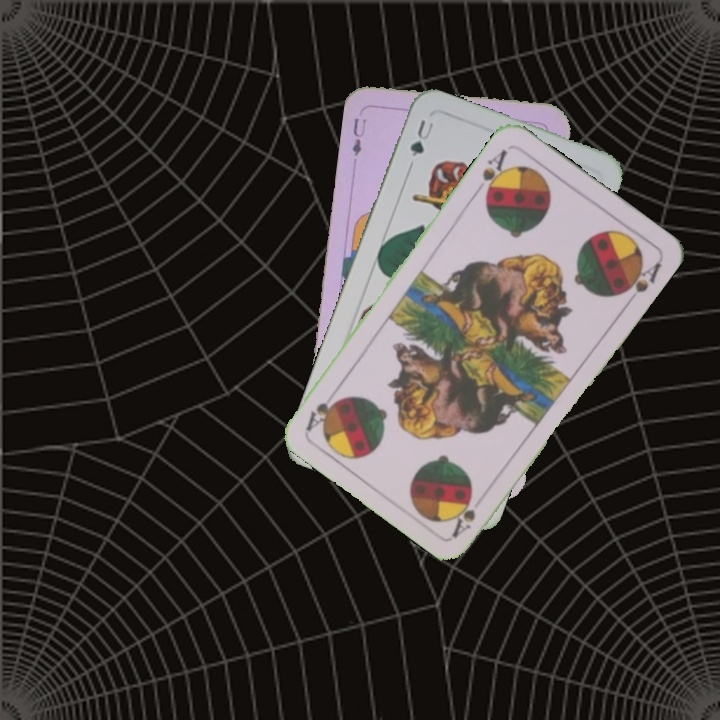EU: (347, 114, 369, 159)
GU: (406, 115, 437, 162)
SA: (478, 145, 510, 201), (448, 491, 478, 540)
